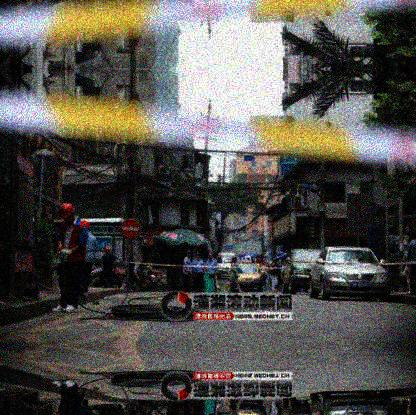helmet: (56, 203, 77, 225)
